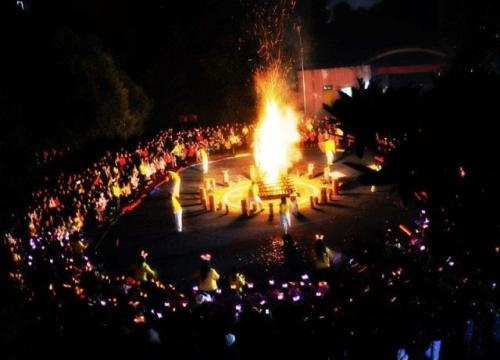fire: (250, 82, 305, 184)
